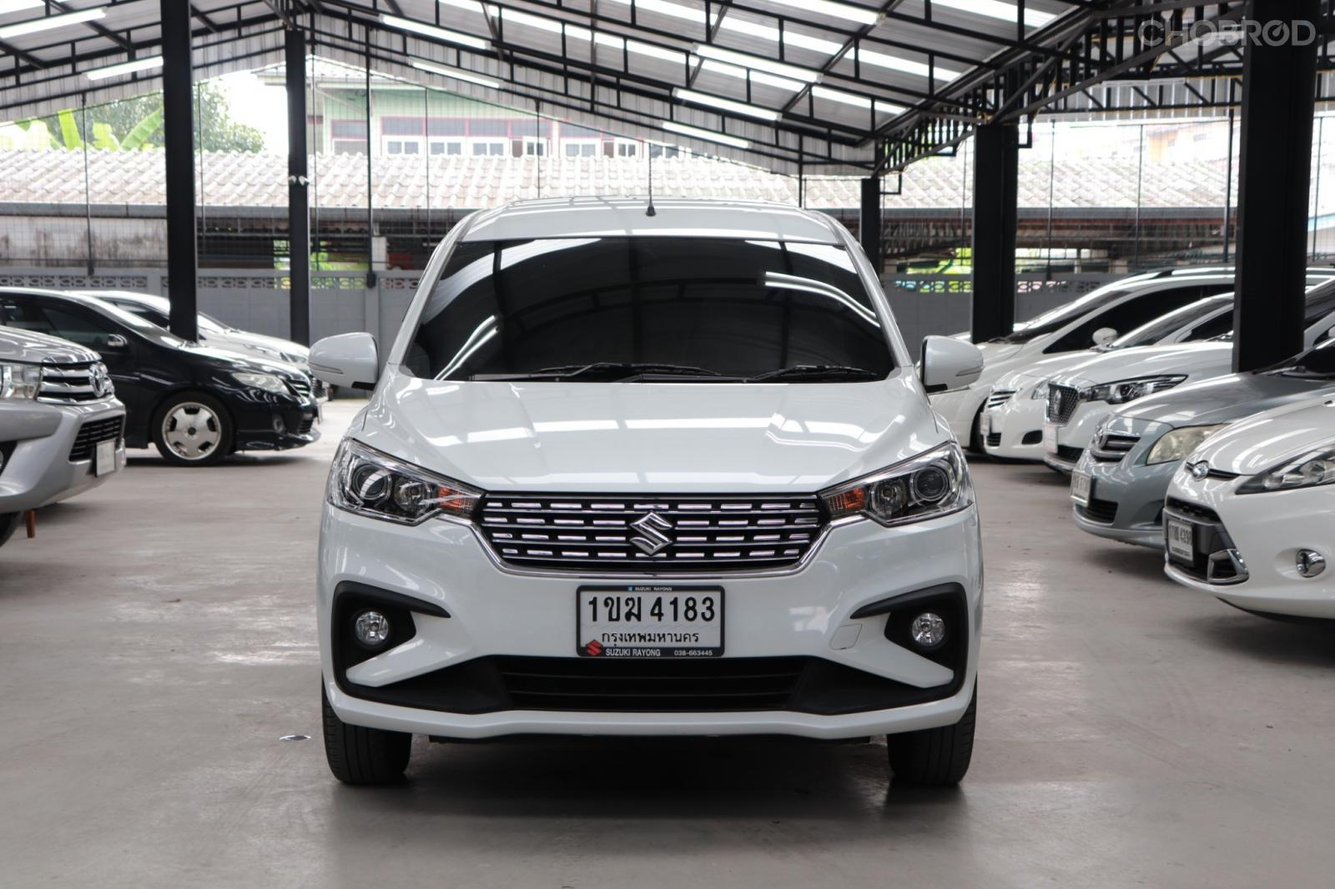license-plate: (575, 578, 726, 661), (1162, 511, 1198, 568), (93, 436, 121, 481), (1067, 471, 1096, 504), (975, 416, 998, 437)
